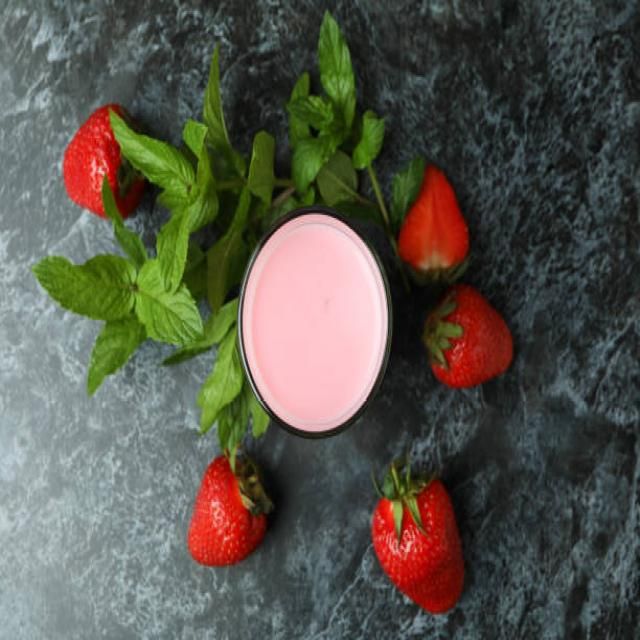Healthy Fruit: (372, 480, 465, 615), (425, 283, 515, 389), (64, 101, 142, 219), (188, 454, 265, 566), (393, 164, 470, 272)
